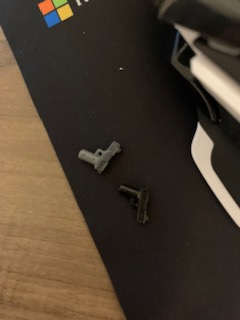pistol: (115, 180, 154, 226), (74, 138, 121, 174)
